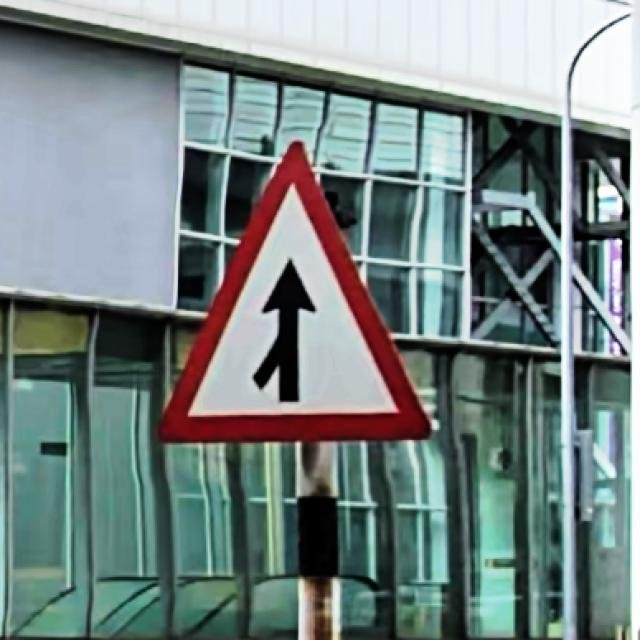leftmerge: (158, 141, 437, 447)
